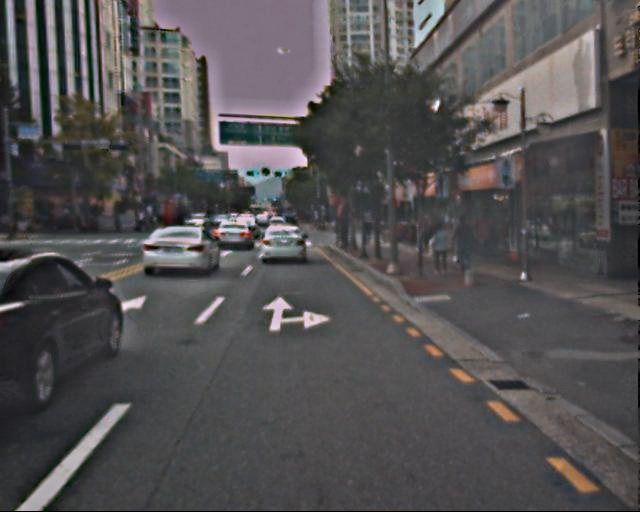person: (449, 211, 476, 277), (429, 221, 453, 279)
